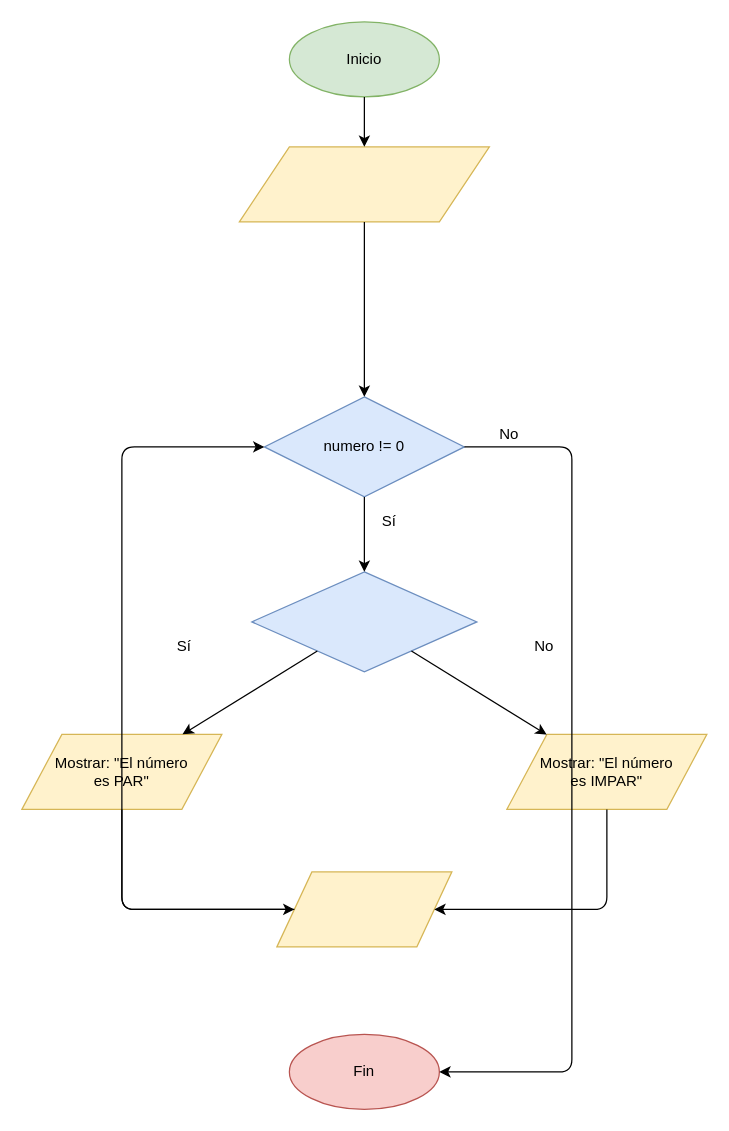
This 729x1131 diagram has some shape labels left out. Here are the shapes that lost their labels. From the top down, the box of each, then its label:
(238, 146, 489, 222): Mostrar: "Ingrese un número (0 para salir)"
(251, 571, 477, 672): numero % 2 == 0
(276, 871, 452, 947): Leer numero
